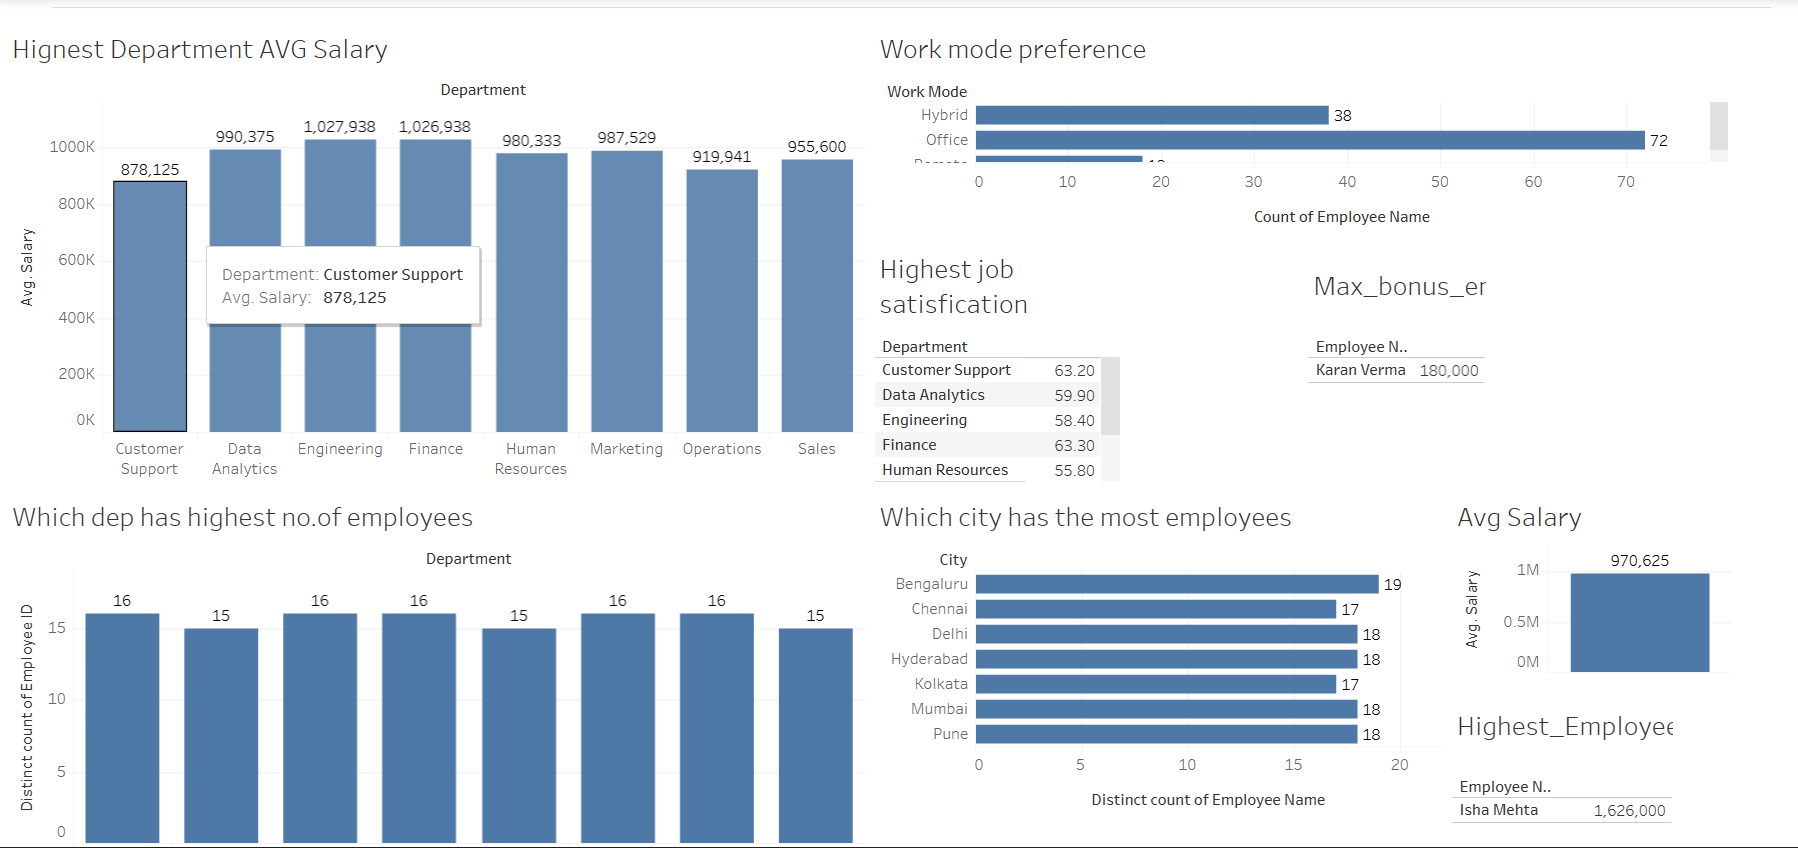

Layout of this report page (visuals, bound fields, positions):
{"tool":"tableau","page":{"name":"Dashboard 1","canvas":[1000,1000],"units":"permille","ordinal":0},"visuals":[{"type":"worksheet","title":"Hignest Department AVG Salary","mark":"Automatic","rows":["Salary"],"cols":["Department"],"box":[5.1,8.8,473.5,523]},{"type":"worksheet","title":"Work mode preference","mark":"Automatic","rows":["Work_Mode"],"cols":["Employee_Name"],"box":[478.6,8.8,473.5,245.6]},{"type":"legend","title":"Hignest Department AVG Salary","param":"[federated.0iasah20ngdb1b1adzpyy1u9enqs].[none:Department:nk]","box":[952.1,8.8,42.8,26.3]},{"type":"worksheet","title":"Highest job satisfication","mark":"Automatic","rows":["Department"],"box":[478.6,254.3,236.8,277.5]},{"type":"worksheet","title":"Max_bonus_employee","mark":"Automatic","rows":["Employee_Name"],"box":[715.4,254.3,236.8,277.5]},{"type":"worksheet","title":"Which dep has highest no.of employees","mark":"Automatic","rows":["Employee_ID"],"cols":["Department"],"box":[5.1,531.8,473.5,459.4]},{"type":"worksheet","title":"Which city has the most employees","mark":"Automatic","rows":["City"],"cols":["Employee_Name"],"box":[478.6,531.8,315.2,459.4]},{"type":"worksheet","title":"Avg Salary","mark":"Automatic","rows":["Salary"],"box":[793.7,531.8,158.4,213.8]},{"type":"worksheet","title":"Highest_Employee_Salary","mark":"Automatic","rows":["Employee_Name"],"box":[793.7,745.6,158.4,245.6]}]}

Visuals, with their boxes on the dashboard's canvas, which has no fixed pixel size, in thousandths of its width and height (x1, y1, x2, y2). These are canvas units, not pixel positions in the 1798x848 screenshot, which may show the page scaled, cropped or inside an application window:
"Hignest Department AVG Salary" worksheet: {"x1": 5, "y1": 9, "x2": 479, "y2": 532}
"Work mode preference" worksheet: {"x1": 479, "y1": 9, "x2": 952, "y2": 254}
"Hignest Department AVG Salary" legend: {"x1": 952, "y1": 9, "x2": 995, "y2": 35}
"Highest job satisfication" worksheet: {"x1": 479, "y1": 254, "x2": 715, "y2": 532}
"Max_bonus_employee" worksheet: {"x1": 715, "y1": 254, "x2": 952, "y2": 532}
"Which dep has highest no.of employees" worksheet: {"x1": 5, "y1": 532, "x2": 479, "y2": 991}
"Which city has the most employees" worksheet: {"x1": 479, "y1": 532, "x2": 794, "y2": 991}
"Avg Salary" worksheet: {"x1": 794, "y1": 532, "x2": 952, "y2": 746}
"Highest_Employee_Salary" worksheet: {"x1": 794, "y1": 746, "x2": 952, "y2": 991}
